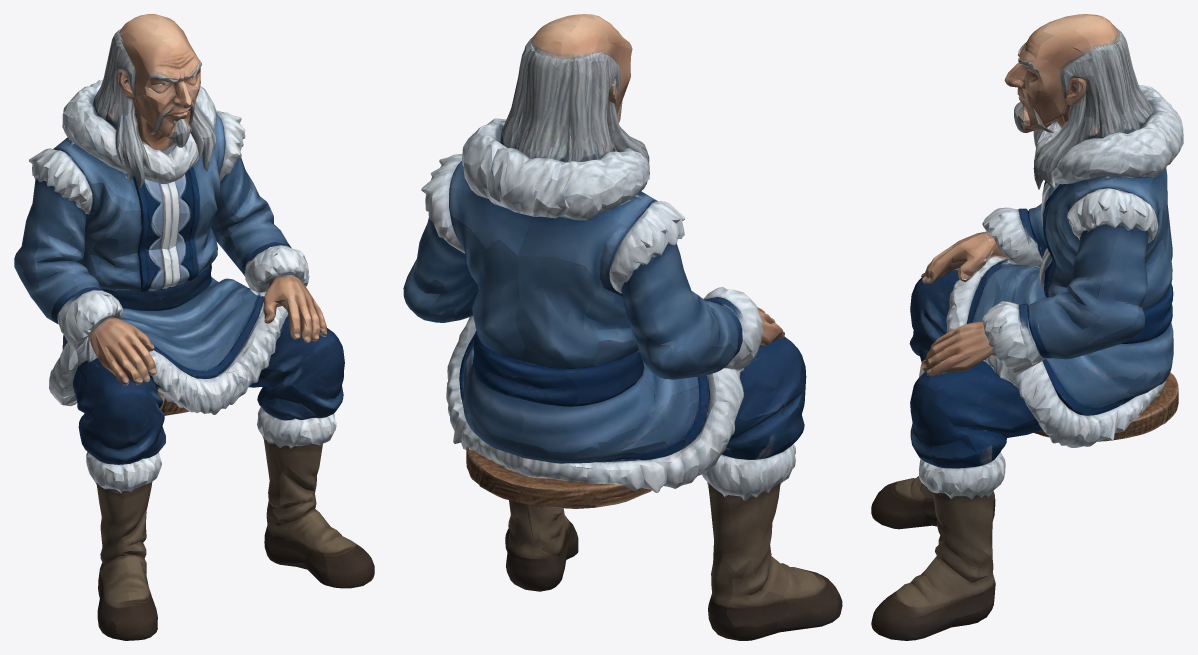
File: pakku.glb
3 views of the same model, side by side, from view 1: azimuth 30°, elevation 25°; view 2: azimuth 150°, elevation 25°; view 3: azimuth 270°, elevation 25° (orthographic). The views are drawn at different scales.
Parts seen in each view (by area): view 1: Mesh_0; view 2: Mesh_0; view 3: Mesh_0.
Boxes of the visible parts, x1,y1,x2,y2 form: Mesh_0: (14, 14, 374, 640); Mesh_0: (403, 14, 842, 640); Mesh_0: (871, 14, 1183, 640).
Size of the model in its own units: 1.02 by 1.9 by 0.9711.
Materials: 1 (1 with a texture image).
